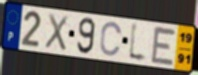2: (20, 10, 44, 49)
9: (76, 17, 97, 55)
C: (99, 21, 124, 58)
E: (150, 25, 178, 68)
L: (127, 20, 149, 66)
X: (43, 12, 70, 53)
